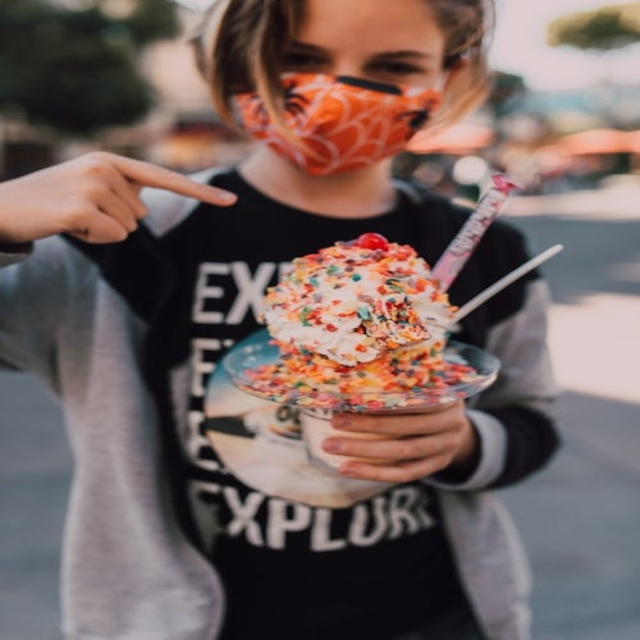Mascara: (230, 69, 446, 178)
Sin_gafas: (370, 59, 425, 76), (282, 51, 325, 67)
Sin_guantes: (2, 149, 236, 250), (315, 398, 476, 486)
